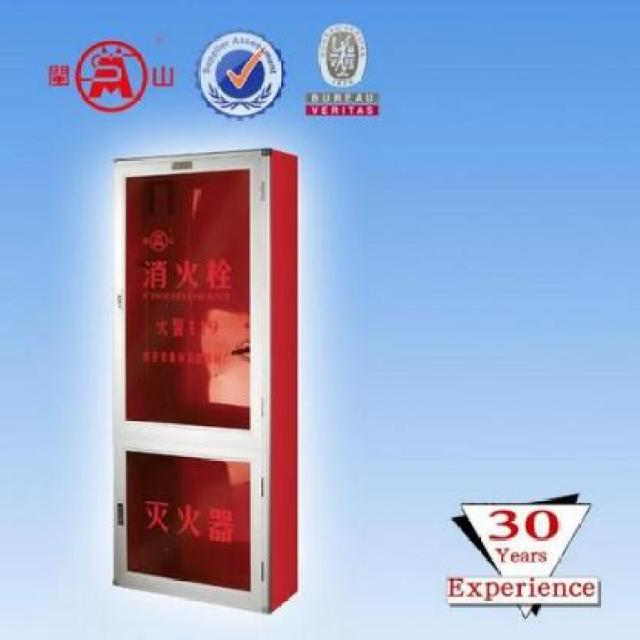firehydrant: (109, 143, 306, 618)
